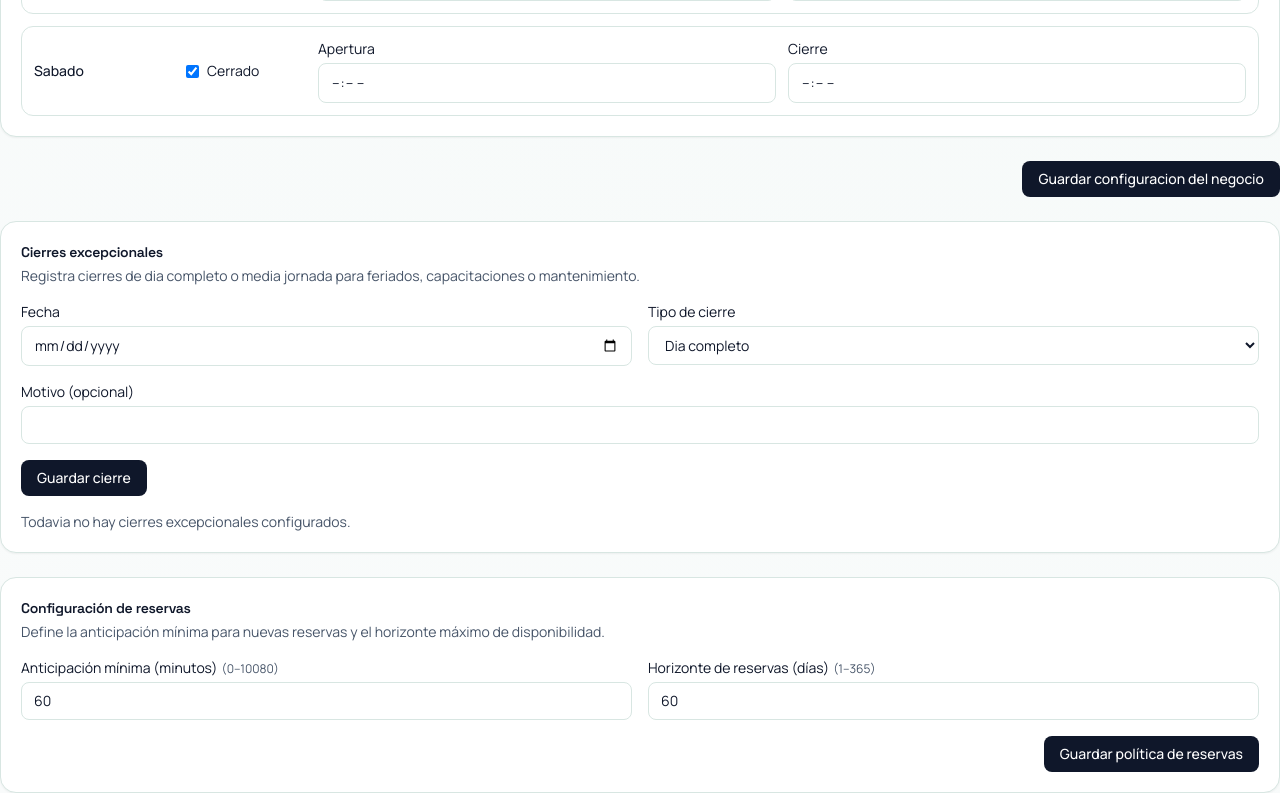
Test case: BusinessSettingsPage › Configuración de reservas section › shows validation error when horizon is 0
(page scrolled)
Replace the text in the number field labelled "Horizonte de reservas (días)" with "0" at {"x": 954, "y": 701}, box [648,682,1259,720]
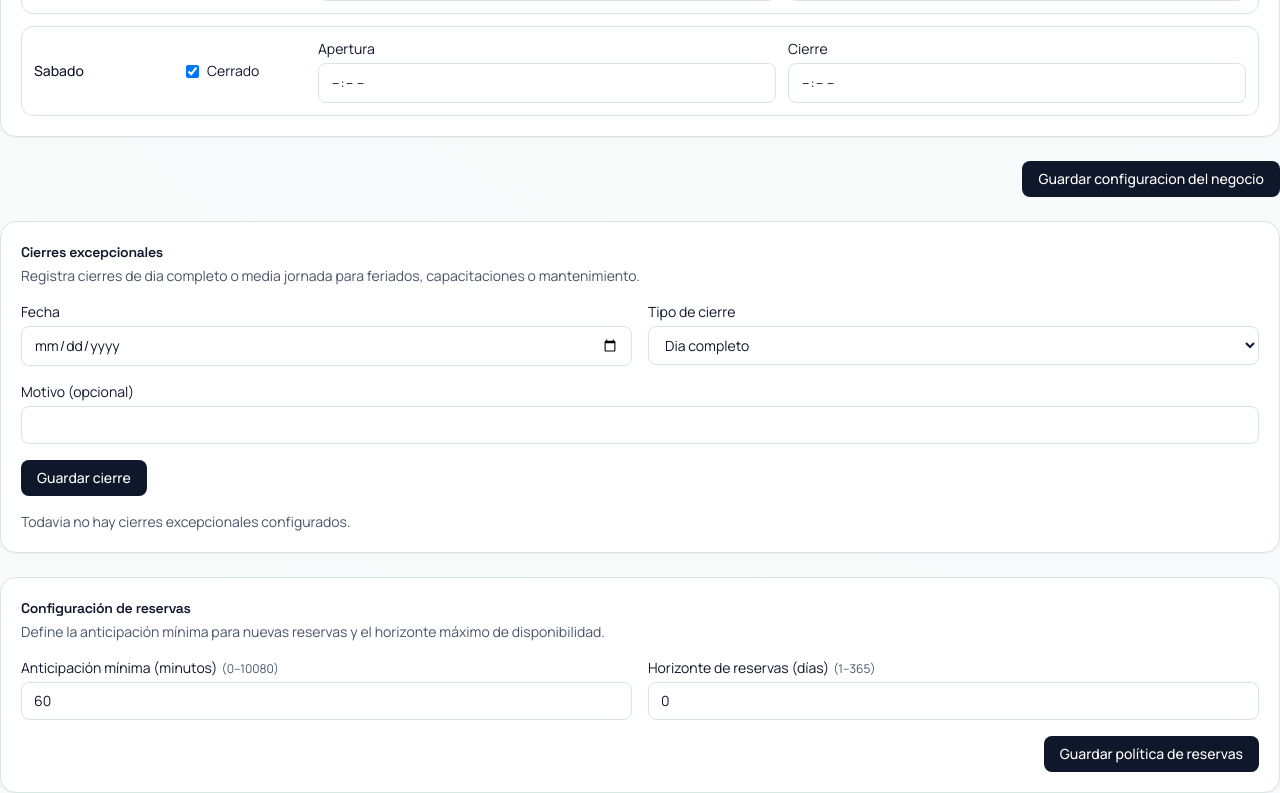
Submit the form labelled "Horizonte de reservas (días)", box [21,658,1259,772]
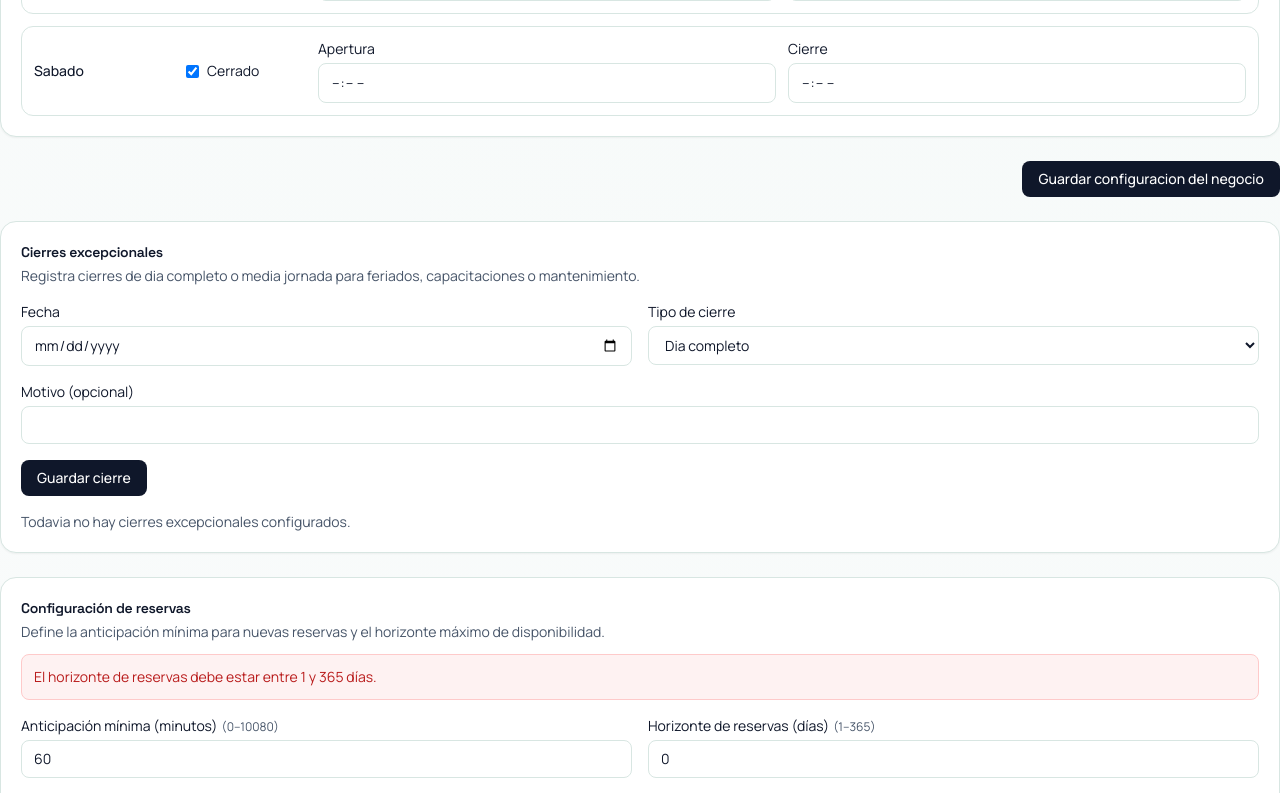
Result: the text "El horizonte de reservas debe estar entre 1 y 365 días." is shown at [21,654,1259,700]
